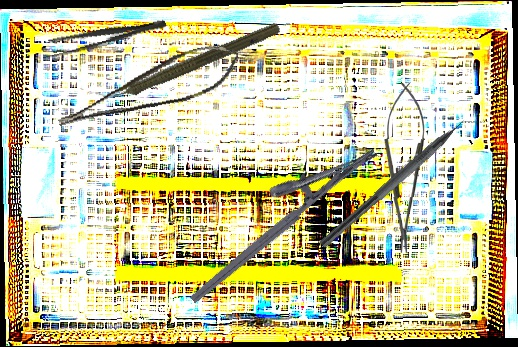Chopper: (317, 103, 488, 261)
Dressing Forceps: (39, 11, 168, 63)
Handpiece: (93, 14, 283, 113)
Micro Scissor: (49, 37, 246, 133)
Needle Holder: (168, 122, 379, 305), (382, 82, 426, 254)
